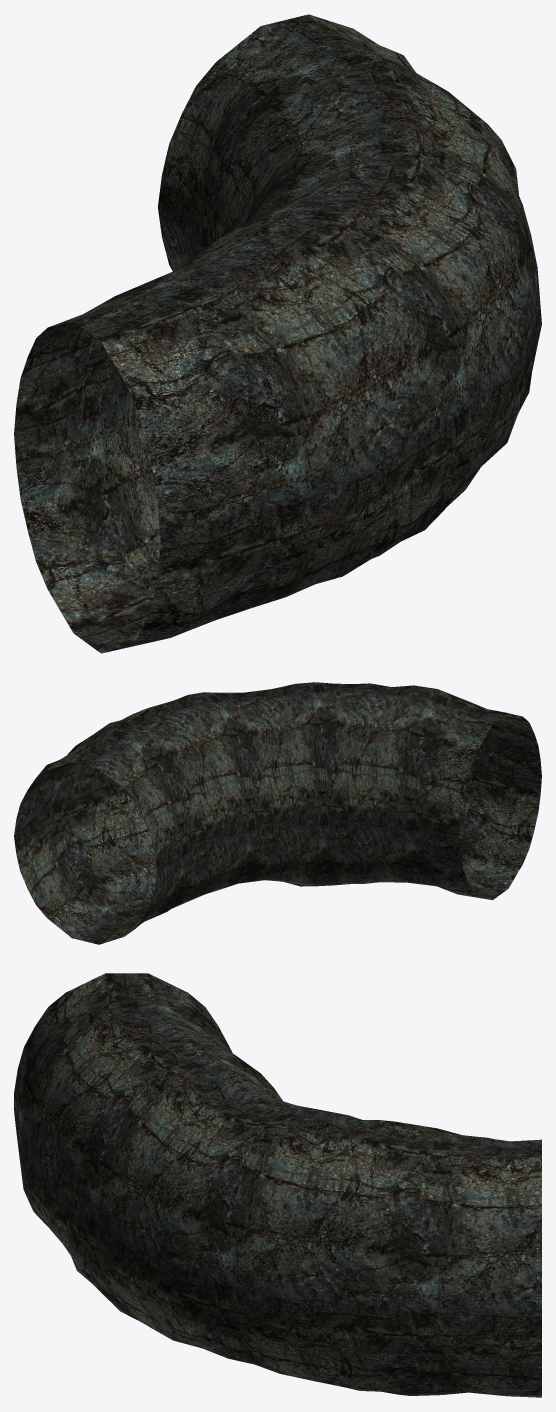
Rendered from tunnel_theta_turn_right.dae.
3 views of the same model, one above another, from view 1: azimuth 30°, elevation 25°; view 2: azimuth 150°, elevation 25°; view 3: azimuth 270°, elevation 25° (orthographic). The views are drawn at different scales.
Parts seen in each view (by area): view 1: tunnel_turn_right; view 2: tunnel_turn_right; view 3: tunnel_turn_right.
Part boxes in pixels (x1,y1,x2,y2): tunnel_turn_right: (14, 14, 541, 653); tunnel_turn_right: (14, 682, 541, 944); tunnel_turn_right: (14, 973, 541, 1397).
Size of the model in its own units: 10.23 by 5.53 by 10.17.
